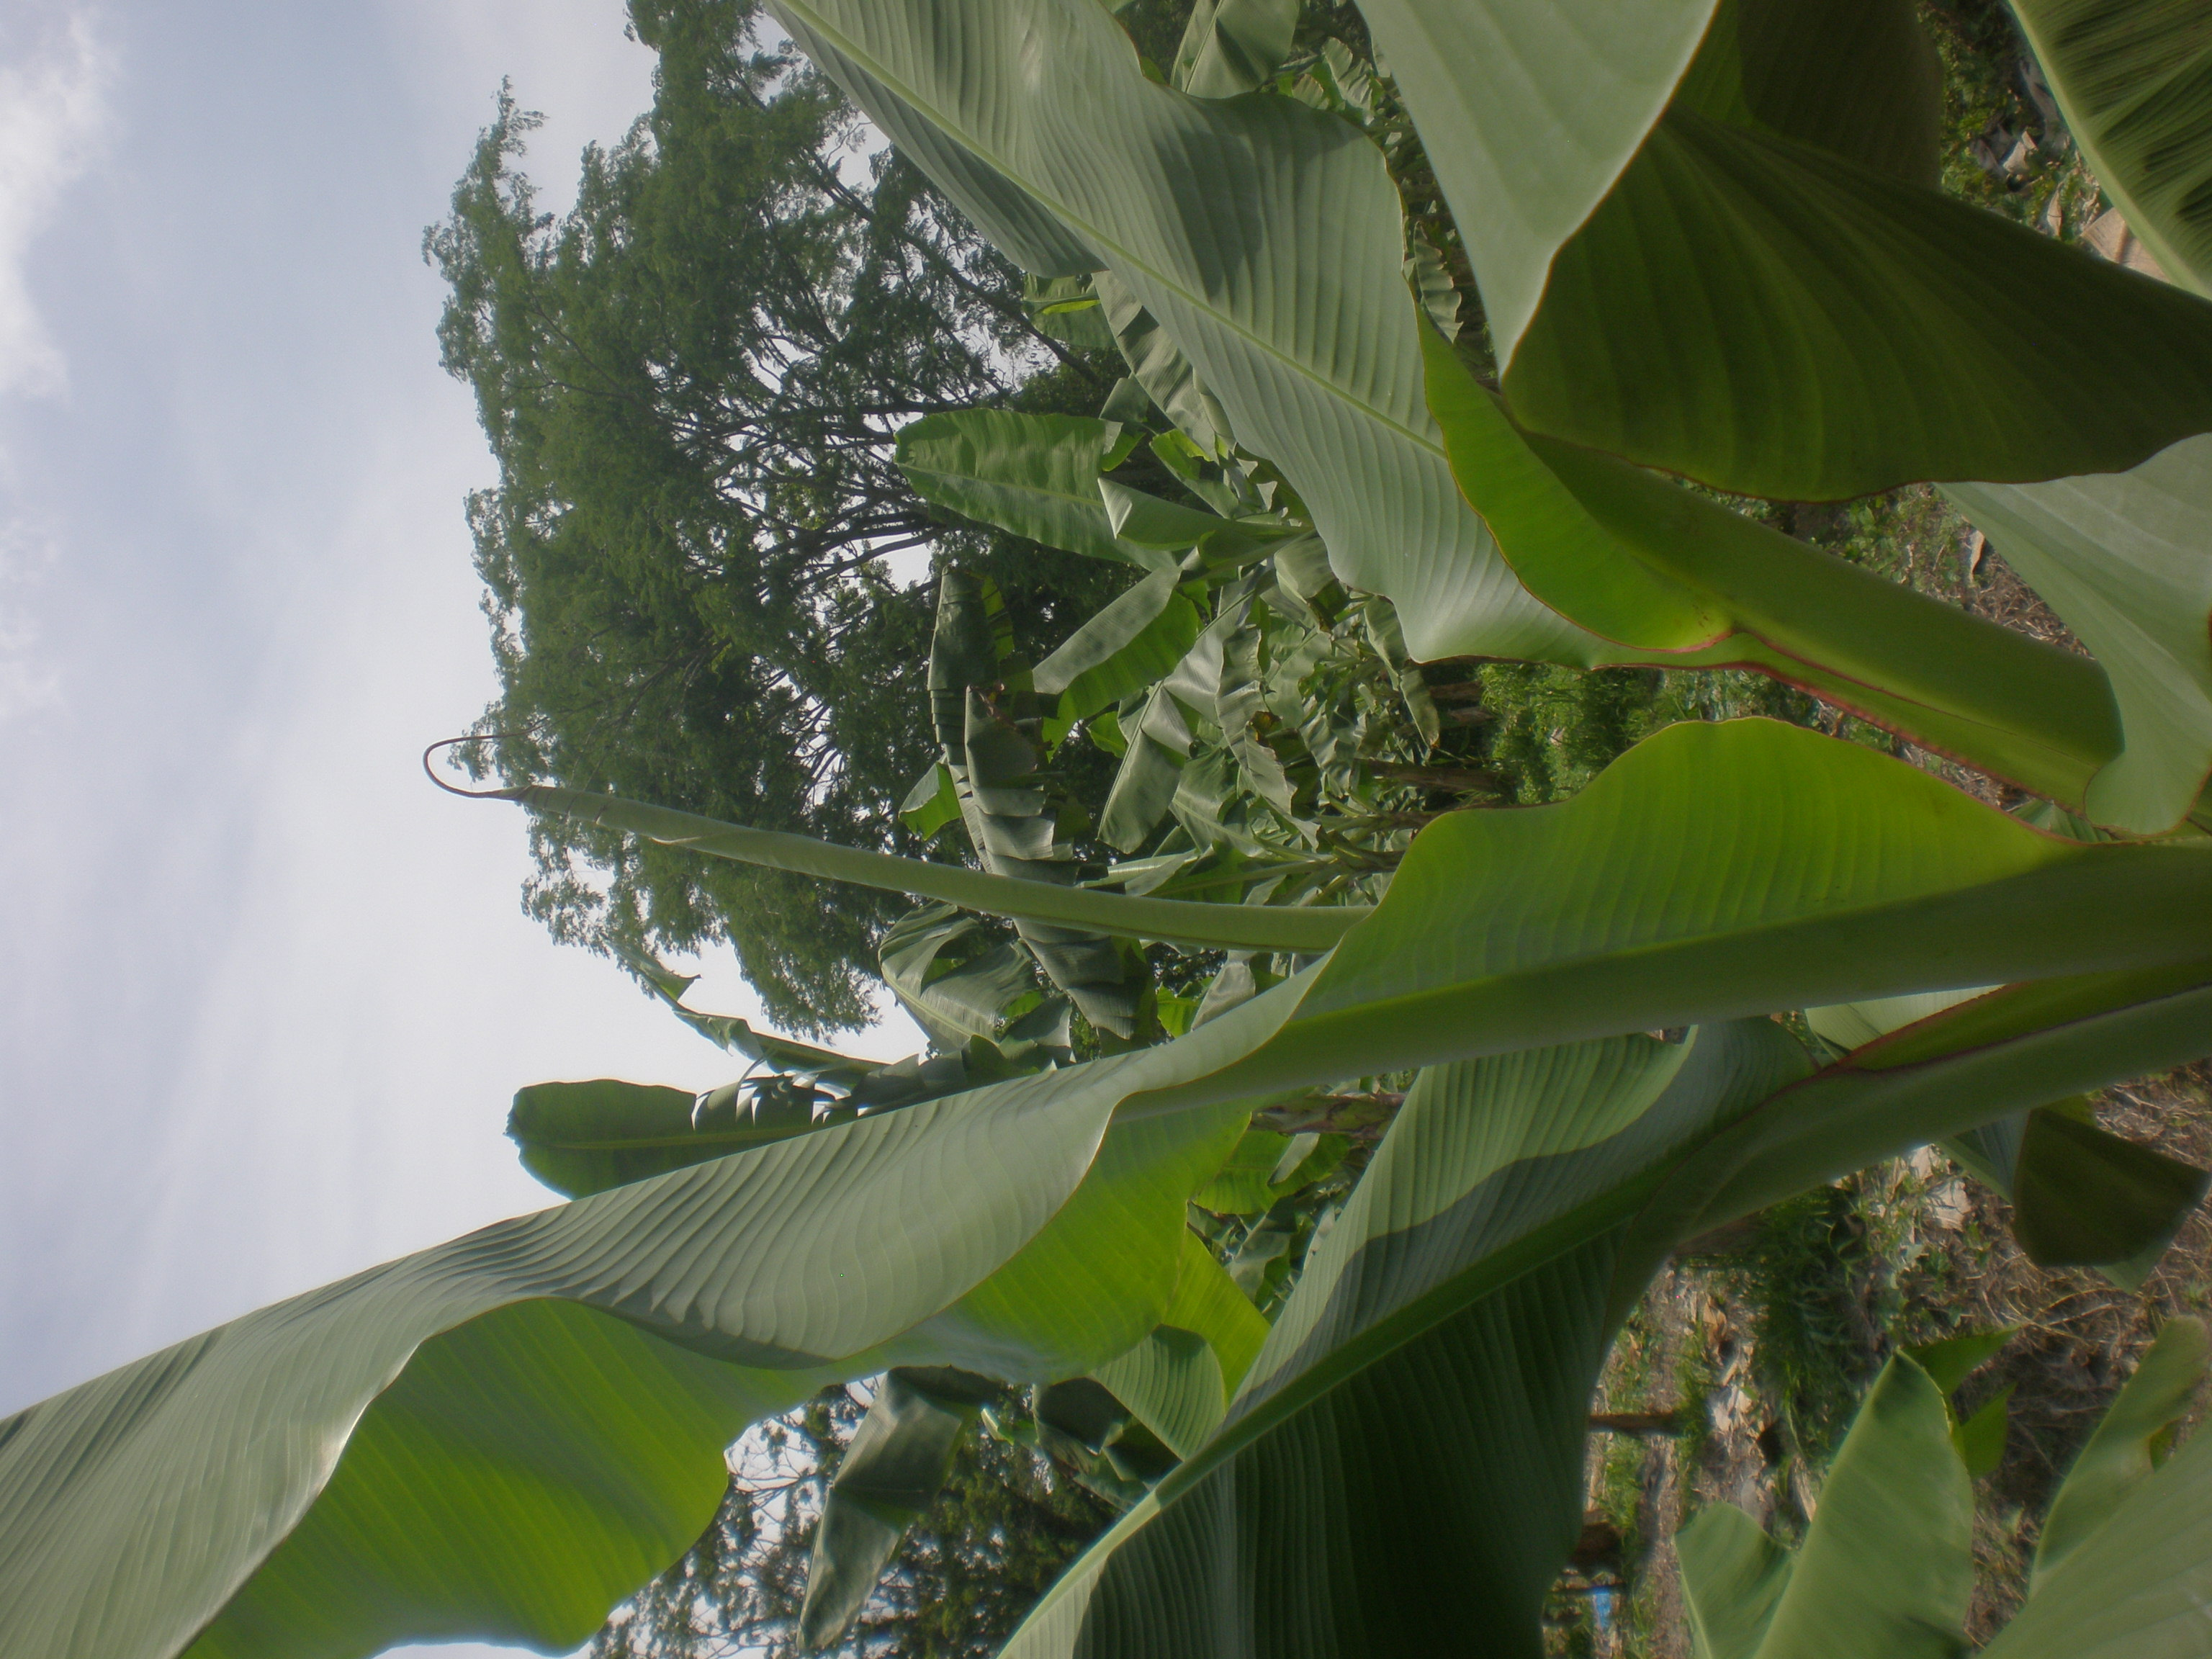candleleafs: (420, 725, 1324, 958)
